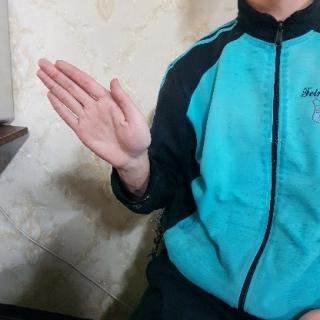SEEN: (34, 53, 154, 182)
